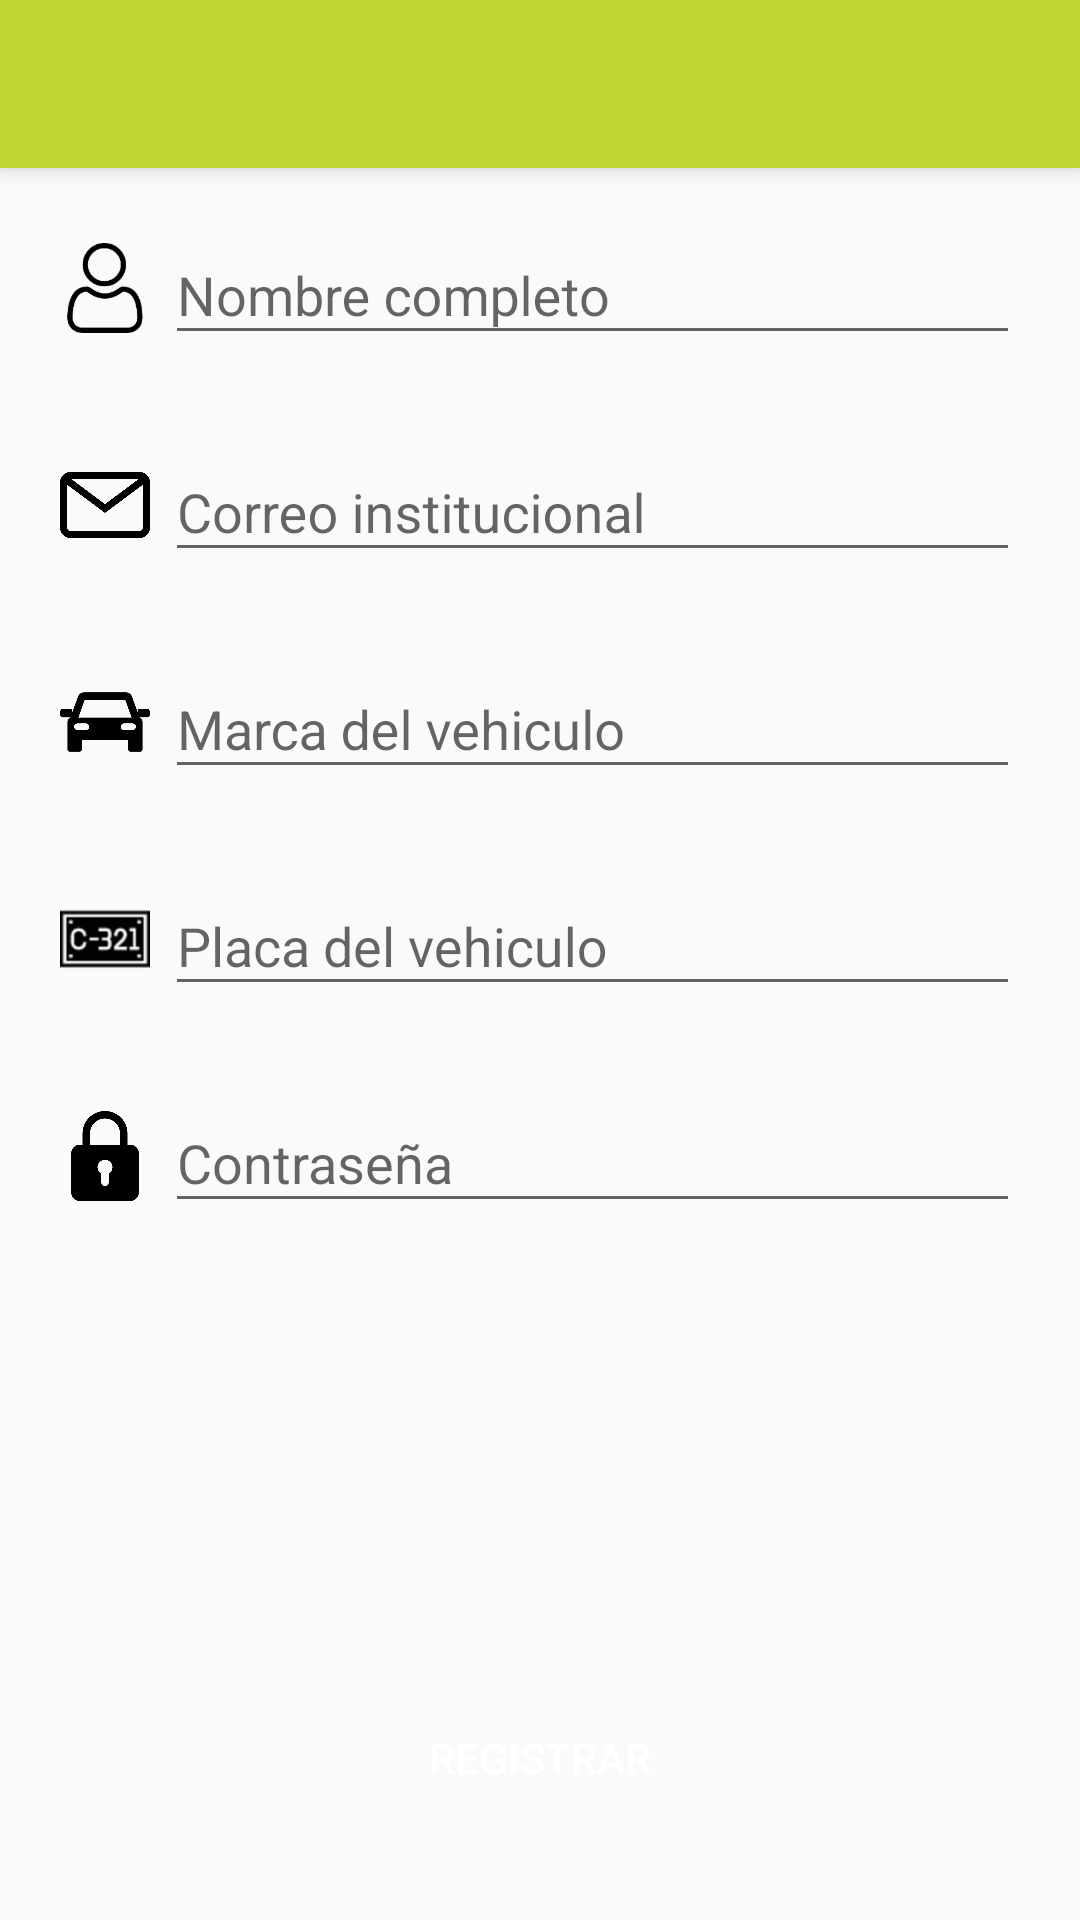

Icons on this 1080px x 1920px Android screen, each with its box as bbox(x1, y1, x2, y2):
caricon: bbox(60, 692, 150, 752)
mail: bbox(60, 472, 150, 538)
matricula: bbox(60, 910, 150, 968)
padlock: bbox(71, 1111, 139, 1201)
person: bbox(67, 243, 143, 333)
